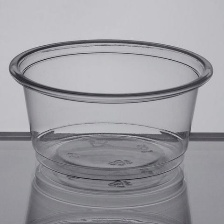glass: (5, 28, 216, 188)
